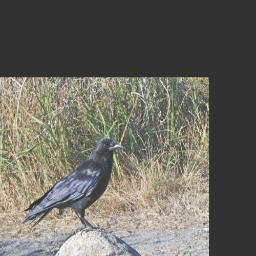Crow: (21, 135, 125, 237)
